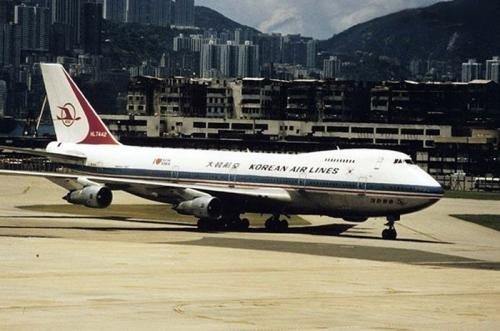airplane: (18, 59, 445, 243)
